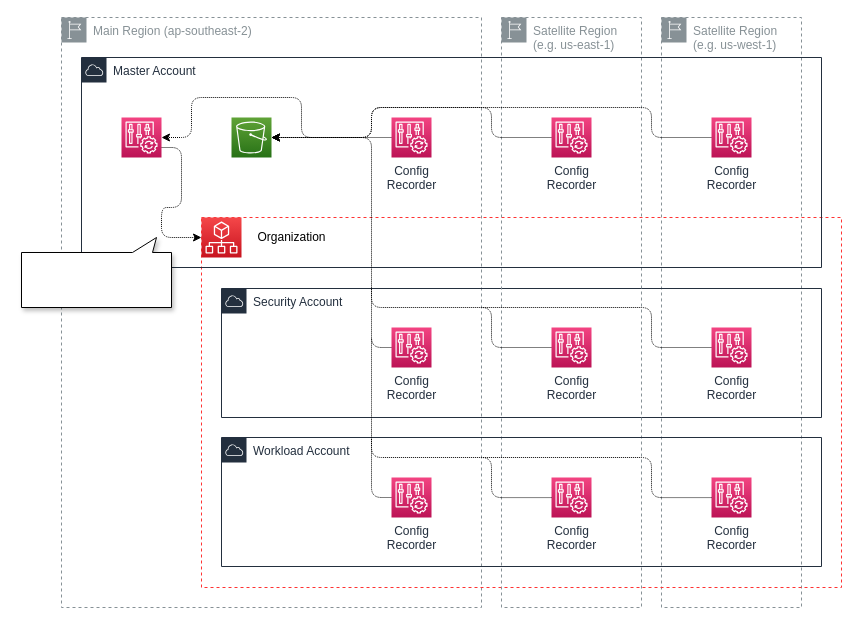
This 859x625 diagram has some shape labels left out. Here are the shapes that lost their labels. From the top down, the centre of each, then its label:
At (141,137): "Config Aggregator".
At (251,137): "Config Snapshots S3 Bucket".
At (97,273): "Config Aggregator using Organization source".
